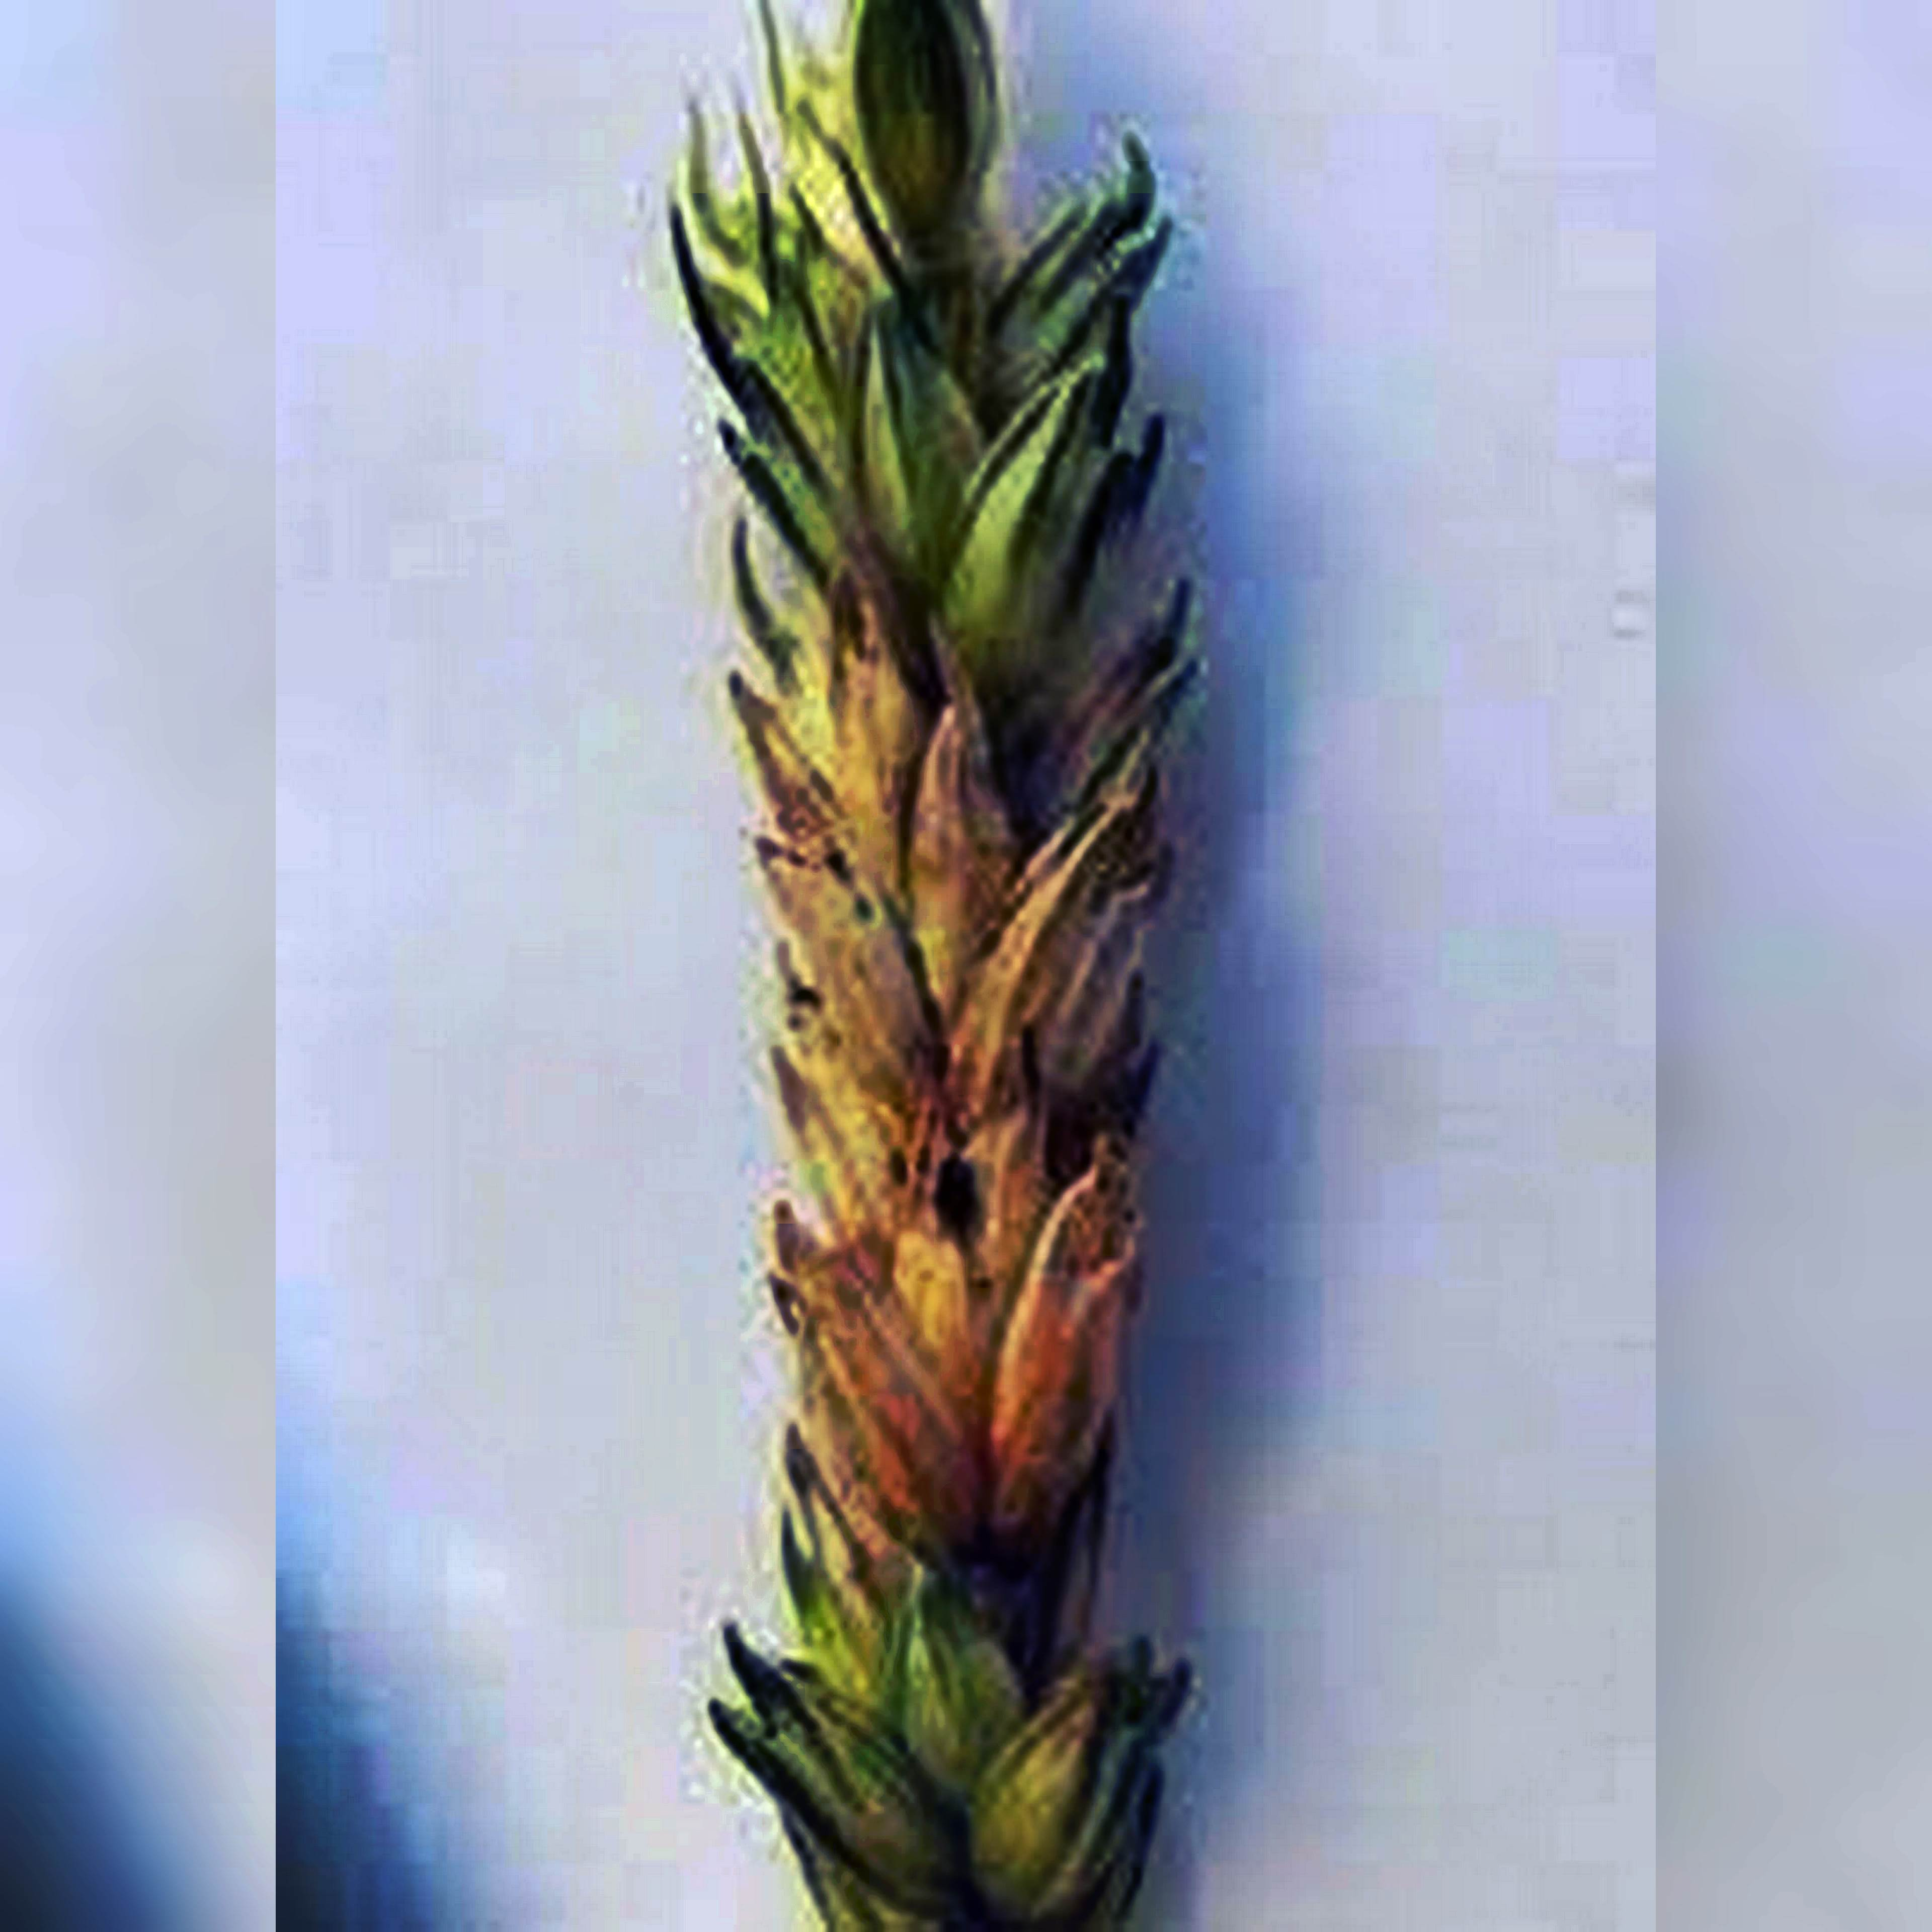Wheat scab: (623, 64, 1212, 1888)
